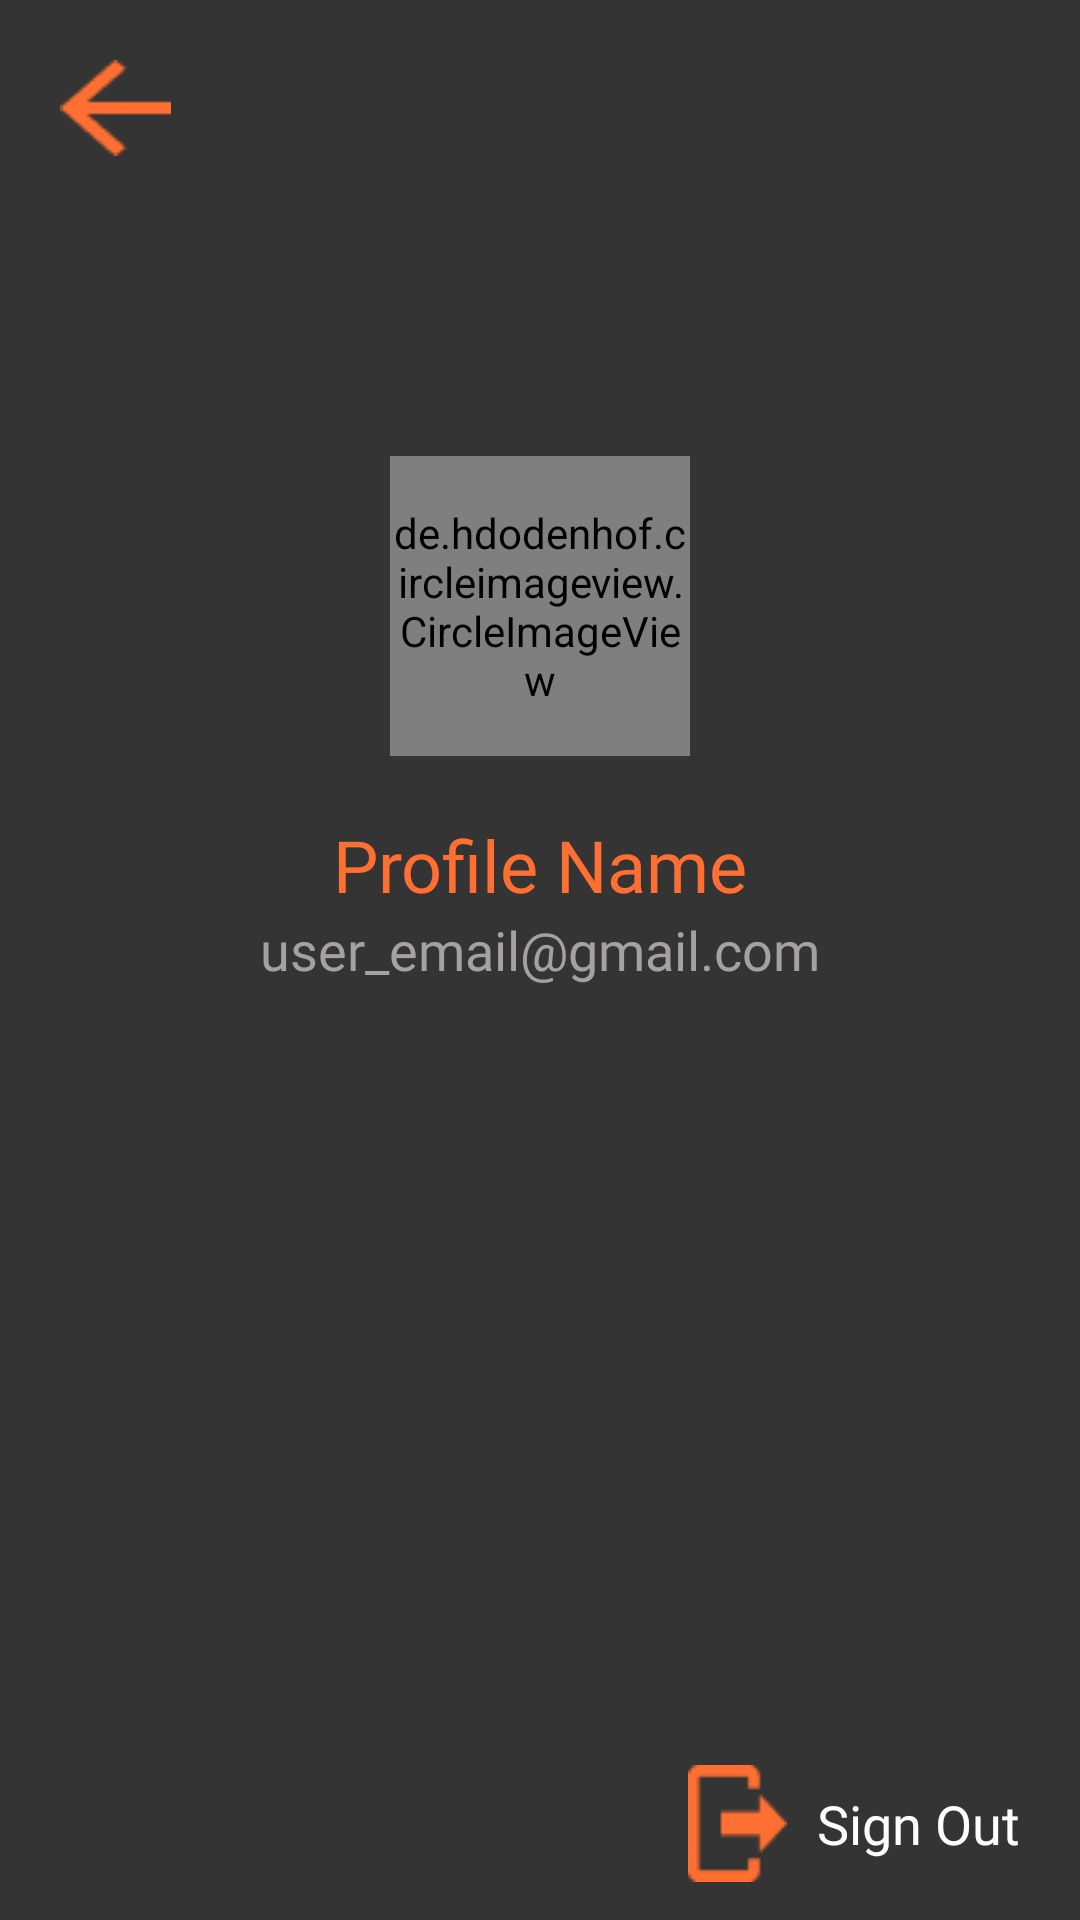

Screen size 1080×1920. Icon name, then its center in pixels as [x,y]:
back: [115,108]
